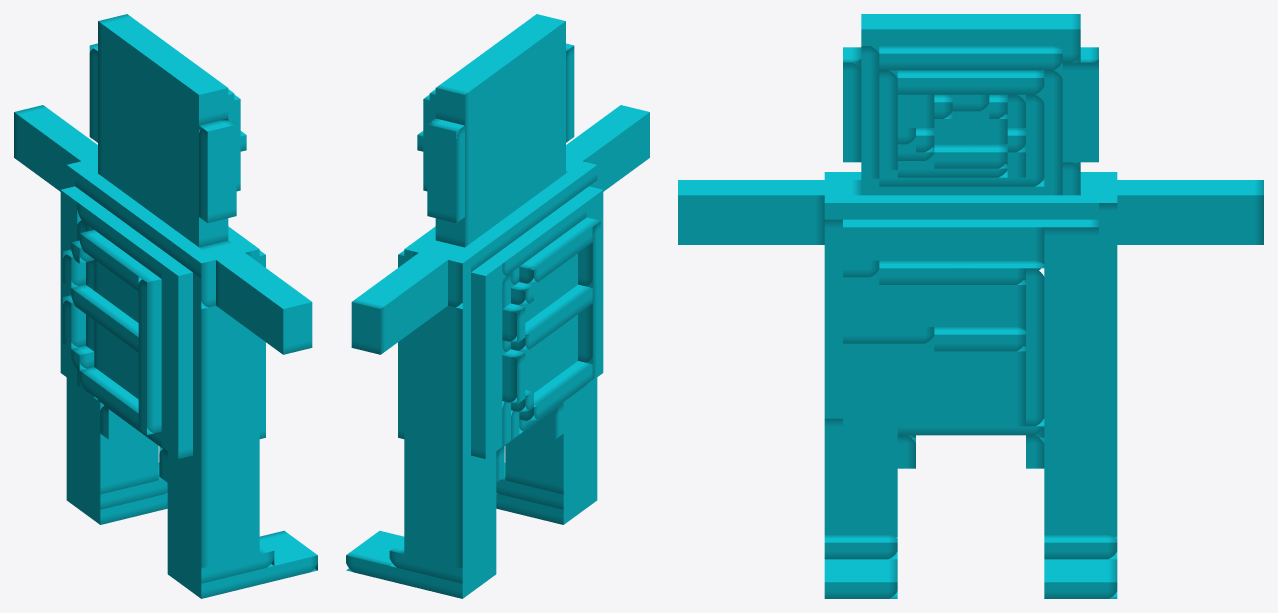
Rendered from wizard.dae.
The picture shows the model from 3 angles, left to right: view 1: azimuth 30°, elevation 25°; view 2: azimuth 150°, elevation 25°; view 3: azimuth 270°, elevation 25°; orthographic projection. The views are drawn at different scales.
Visible parts, largest first — view 1: wizard; view 2: wizard; view 3: wizard.
Part boxes in pixels (x1=…): wizard: x1=14, y1=14, x2=317, y2=598; wizard: x1=346, y1=14, x2=649, y2=598; wizard: x1=678, y1=14, x2=1263, y2=598.
Size of the model in its own units: 10 by 32 by 32.
1 material, 1 textured.
